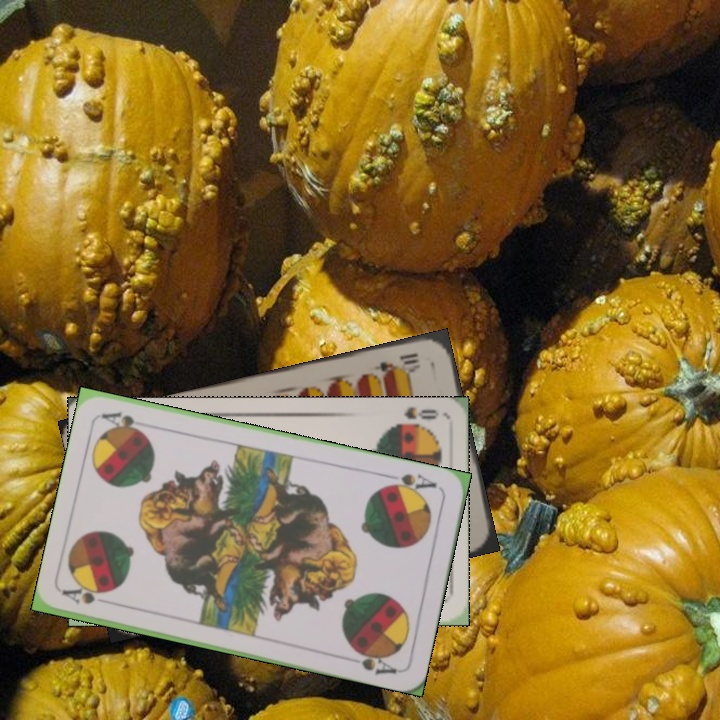E10: (370, 349, 422, 378)
SA: (381, 469, 439, 498), (60, 584, 108, 607)
SO: (386, 404, 442, 431)
